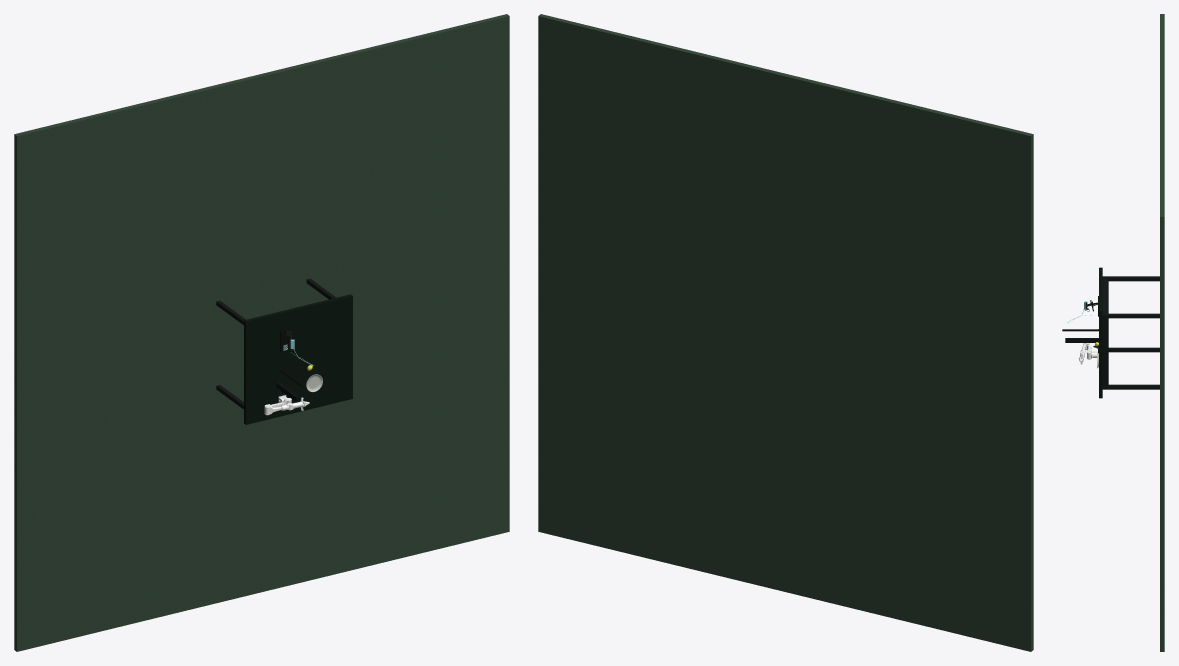
File: initial_scene.glb
3 renders of one model, left to right at view 1: azimuth 30°, elevation 25°; view 2: azimuth 150°, elevation 25°; view 3: azimuth 270°, elevation 25°, orthographic. The views are drawn at different scales.
Visible parts, largest first — view 1: floor, tabletop; view 2: floor; view 3: floor, tabletop, link8STL.
Part boxes in pixels (left/top/right/bottom): floor: left=14, top=14, right=509, bottom=651; tabletop: left=216, top=278, right=352, bottom=424; floor: left=538, top=14, right=1033, bottom=651; floor: left=1160, top=14, right=1164, bottom=651; tabletop: left=1099, top=267, right=1159, bottom=398; link8STL: left=1078, top=343, right=1098, bottom=364.
Size of the model in its own units: 6 by 6 by 1.28.
46 materials, 5 textured.
